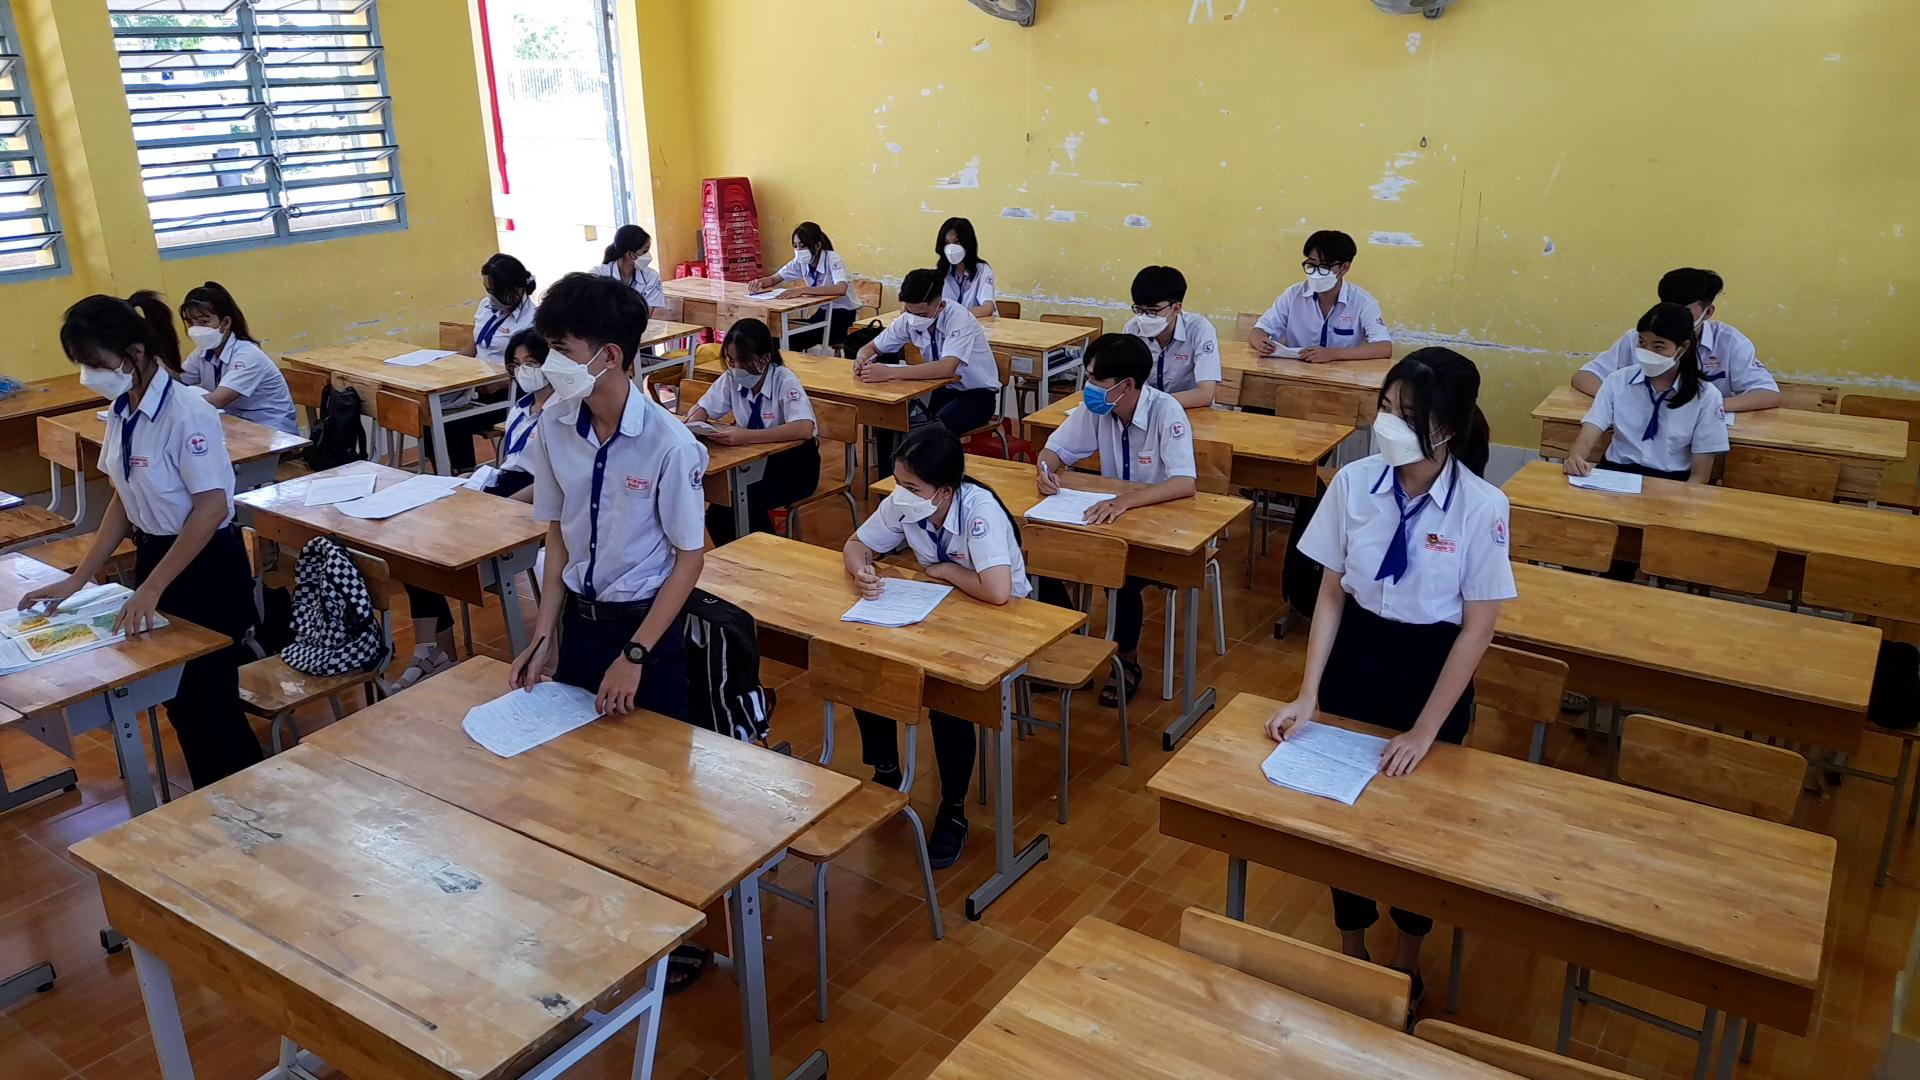Hand Under Table: (1687, 382, 1731, 492)
Look Around: (1065, 328, 1159, 426), (600, 204, 665, 278)
Normal: (831, 415, 1038, 612), (843, 262, 1013, 396), (1244, 223, 1403, 361), (162, 270, 298, 429), (690, 310, 819, 450), (738, 212, 858, 311), (452, 237, 537, 345)
Stand Up: (1257, 336, 1524, 785), (477, 268, 709, 715), (17, 285, 257, 630)
